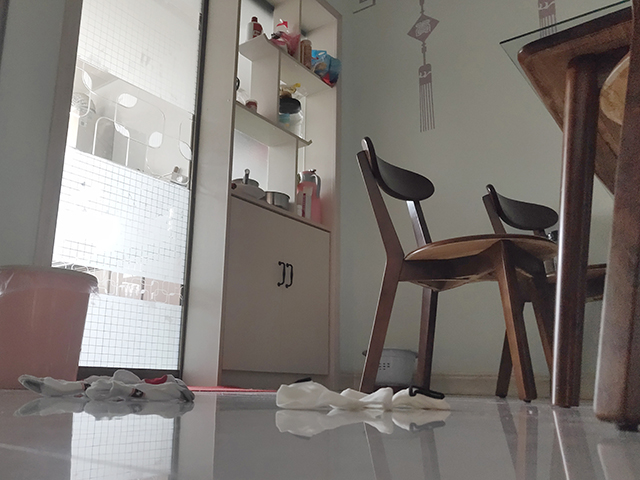cabinet: (192, 183, 349, 391)
carpet: (186, 385, 277, 393)
socks: (14, 366, 199, 403), (272, 376, 451, 413)
stool: (354, 135, 582, 405), (478, 183, 608, 401)
table: (496, 1, 640, 431)
trashcan: (1, 264, 100, 394)
